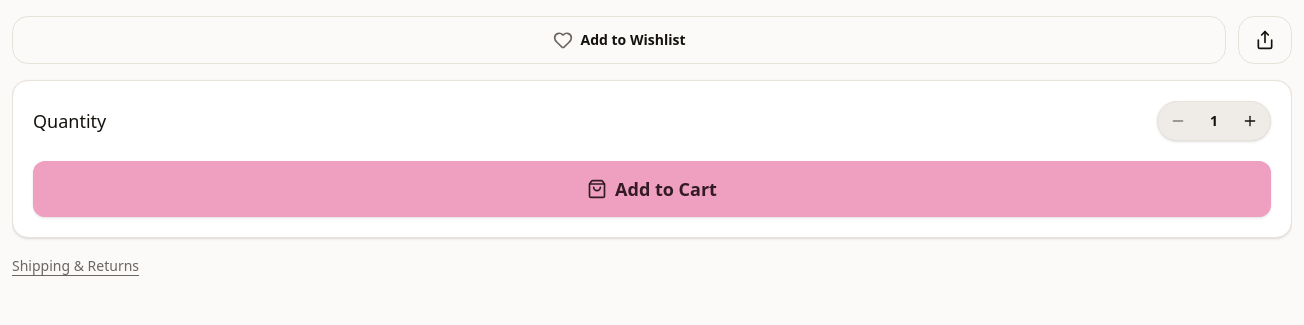
Test: ProductActions › preserves inline cart validation messaging for unsuccessful adds
Step 1. Click the button "Add to Cart" → (652, 189), box [33,161,1271,217]
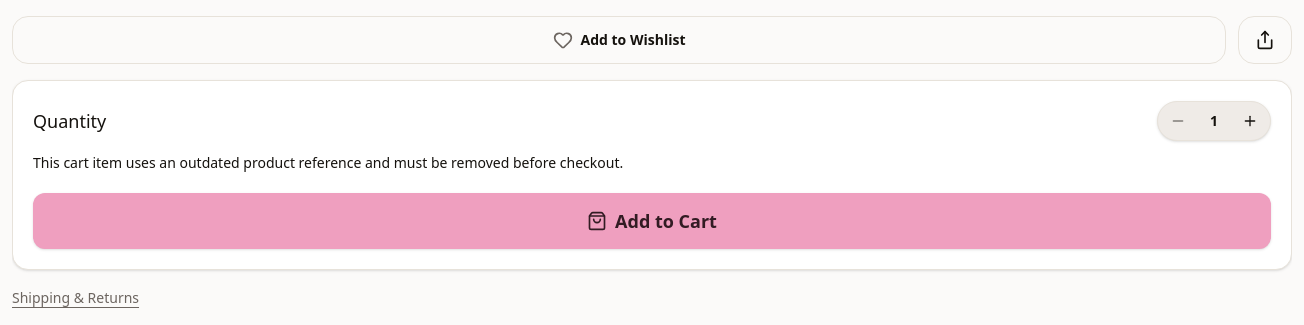
Now the text "This cart item uses an outdated product reference and must be removed before checkout." is shown, box [33,153,623,172]
